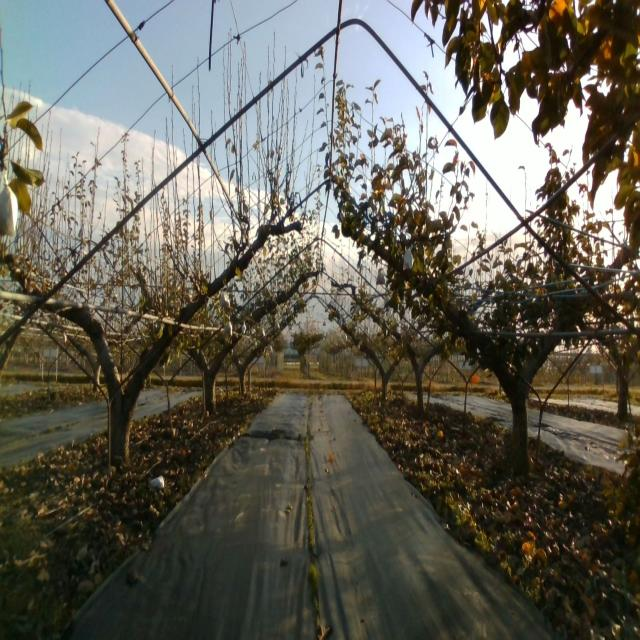pearbags: (0, 178, 19, 236), (403, 247, 414, 270)
